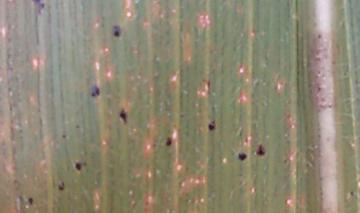tarspot: (29, 1, 46, 16), (110, 22, 122, 39), (88, 84, 101, 98), (118, 107, 128, 125), (255, 143, 265, 157), (206, 119, 216, 132), (163, 135, 173, 147), (205, 79, 212, 95), (56, 181, 67, 191), (237, 151, 247, 162), (73, 161, 82, 173), (26, 196, 34, 205), (60, 132, 69, 140), (73, 122, 81, 130), (348, 190, 356, 197), (177, 112, 185, 119), (316, 32, 322, 40), (316, 85, 322, 93)
